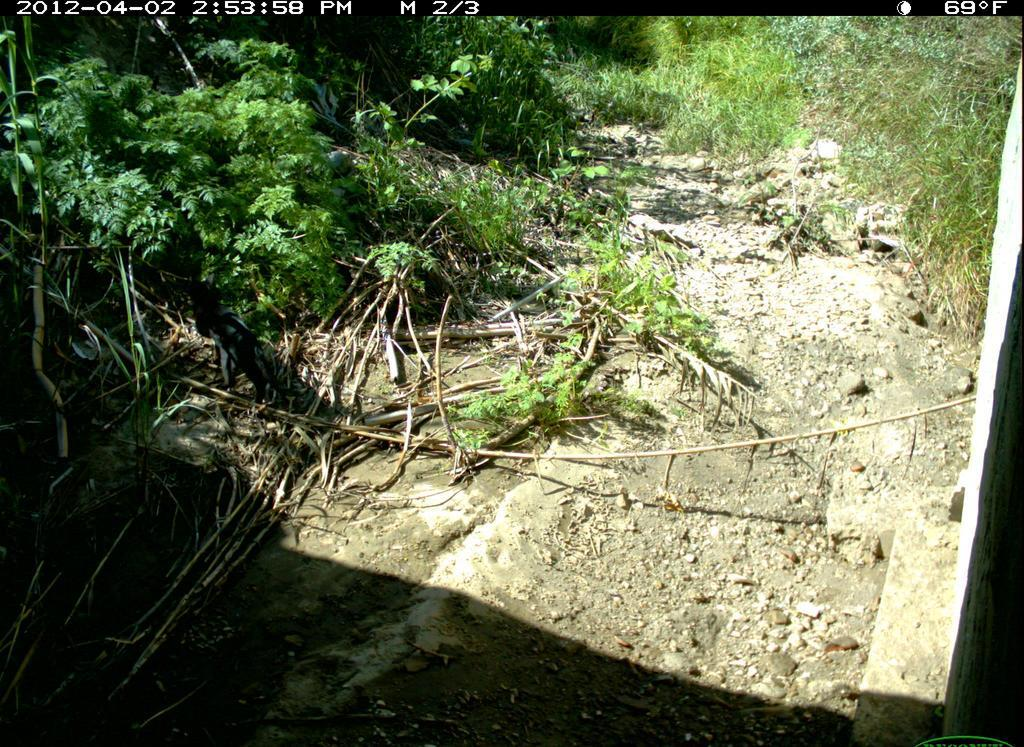cat: (163, 283, 322, 433)
